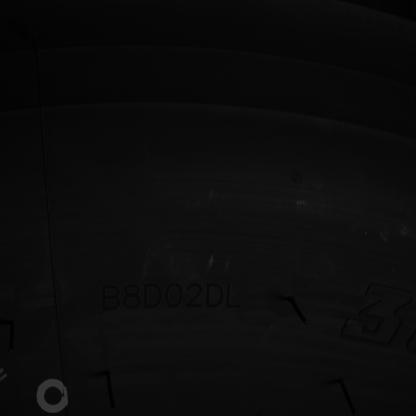ocr: (98, 281, 243, 313)
